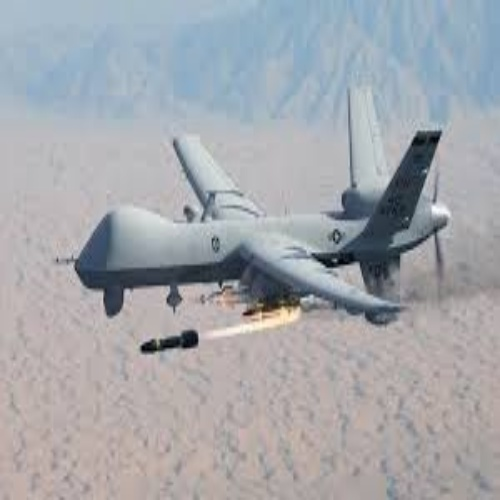uav452: (55, 85, 462, 325)
